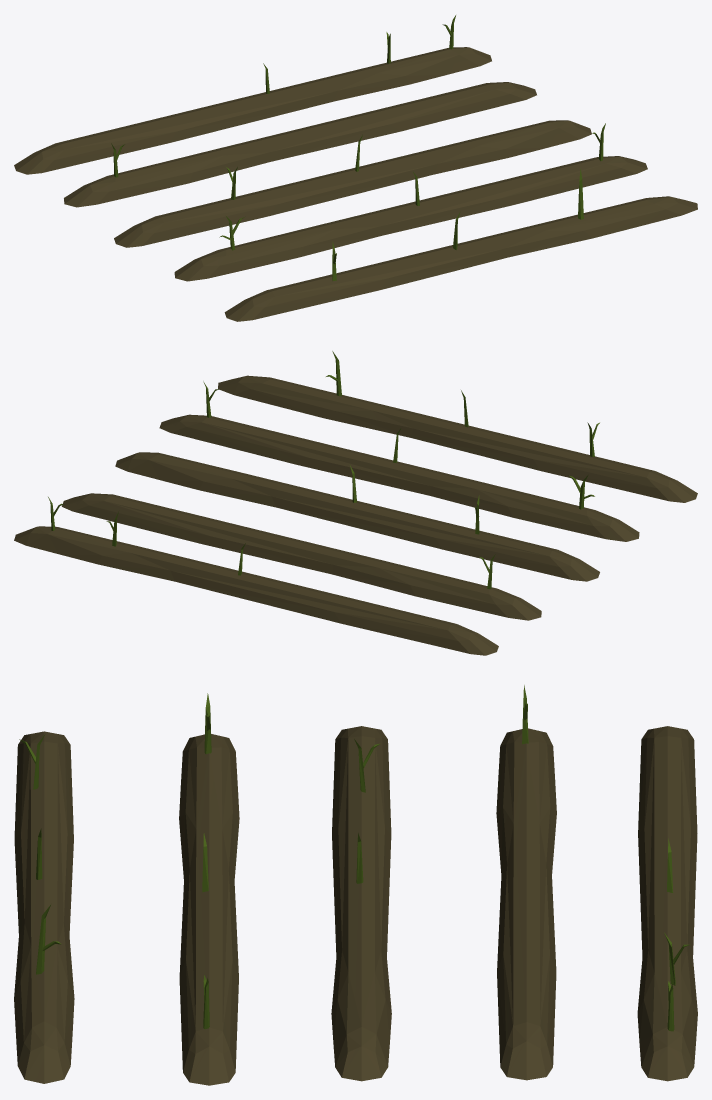
Rendered from Farm_Growth.glb.
The picture shows the model from 3 angles, top to bottom: view 1: azimuth 30°, elevation 25°; view 2: azimuth 150°, elevation 25°; view 3: azimuth 270°, elevation 25°; orthographic projection. The views are drawn at different scales.
Visible parts, largest first — view 1: Farm_Dirt_Level2; view 2: Farm_Dirt_Level2; view 3: Farm_Dirt_Level2.
Boxes of the visible parts, x1,y1,x2,y2 form: Farm_Dirt_Level2: (14,15,697,321); Farm_Dirt_Level2: (14,351,697,655); Farm_Dirt_Level2: (14,685,697,1085).
Size of the model in its own units: 1.79 by 0.2202 by 1.44.
